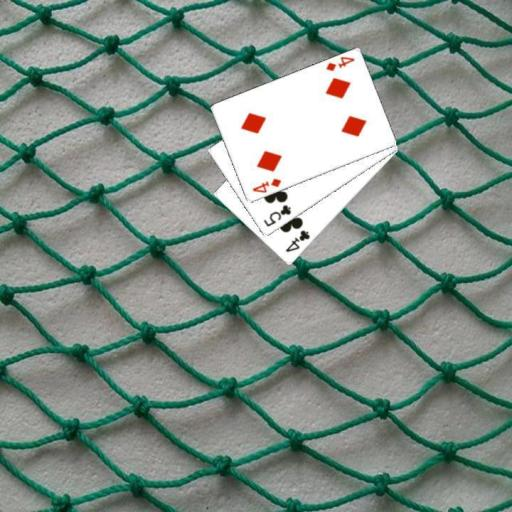card-corner: (260, 202, 292, 229), (282, 227, 312, 254), (322, 54, 356, 73), (249, 176, 282, 194)
